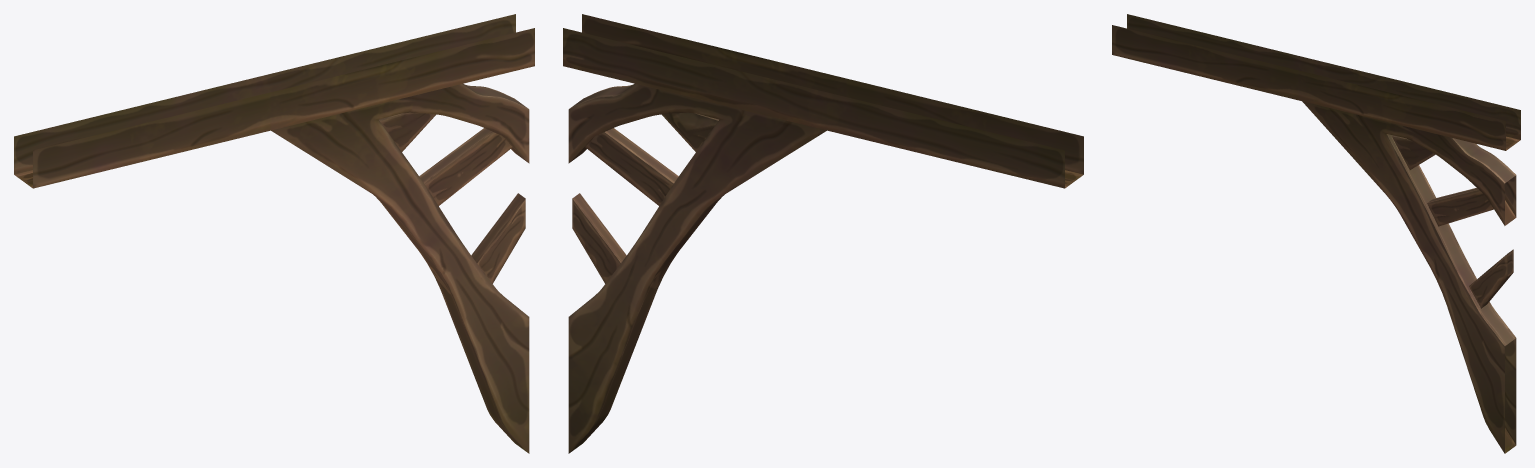
File: SM_FacadePart_04.fbx
3 renders of one model, left to right at view 1: azimuth 30°, elevation 25°; view 2: azimuth 150°, elevation 25°; view 3: azimuth 330°, elevation 25°, orthographic. The views are drawn at different scales.
Visible parts, largest first — view 1: SM_FacadePart_04_LOD0; view 2: SM_FacadePart_04_LOD0; view 3: SM_FacadePart_04_LOD0.
Boxes of the visible parts, bbox=[...] form: SM_FacadePart_04_LOD0: bbox=[14, 14, 534, 453]; SM_FacadePart_04_LOD0: bbox=[563, 14, 1083, 453]; SM_FacadePart_04_LOD0: bbox=[1112, 14, 1520, 453].
Bounding box in the file's own units: 275 × 18.04 × 223.
1 material, 1 textured.
